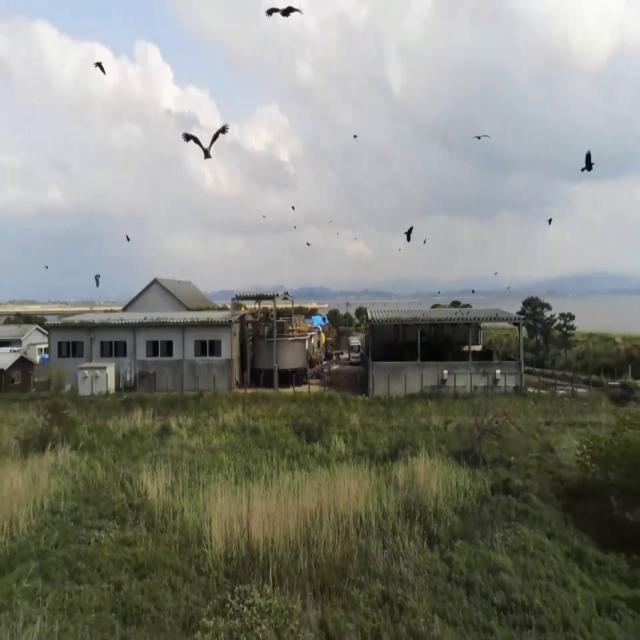bird: (180, 98, 232, 183), (263, 0, 305, 43), (580, 137, 594, 187), (93, 52, 107, 88), (472, 123, 489, 152), (403, 216, 414, 252)
